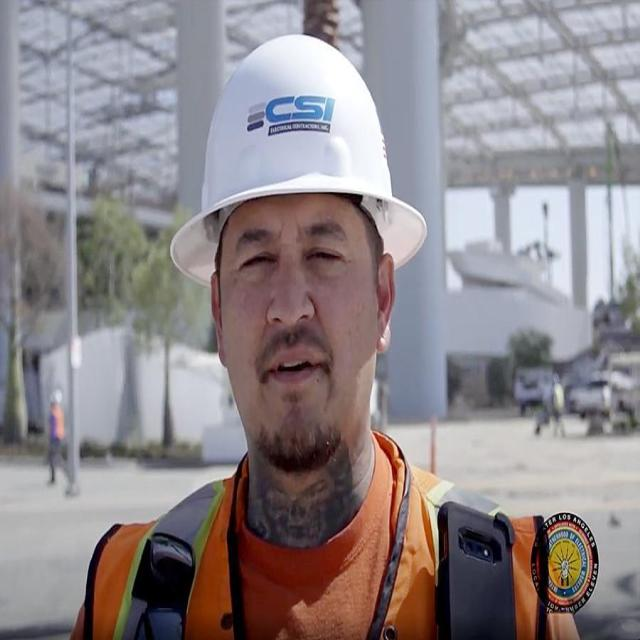helmet: (169, 33, 427, 285)
